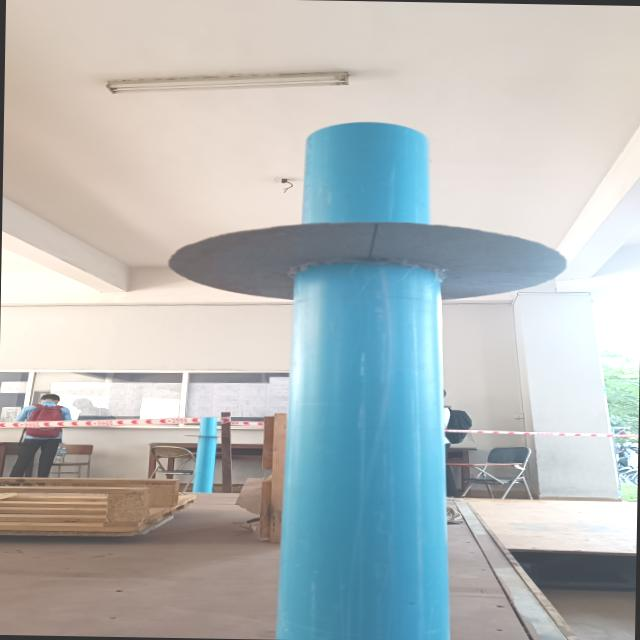pole: (141, 106, 584, 511)
